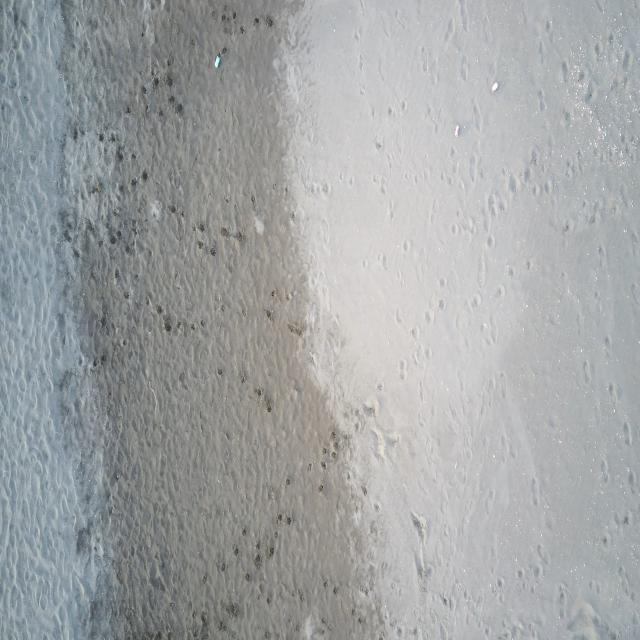tin-and-aluminum-cans: (491, 82, 499, 94), (454, 124, 460, 139), (214, 55, 220, 69)
